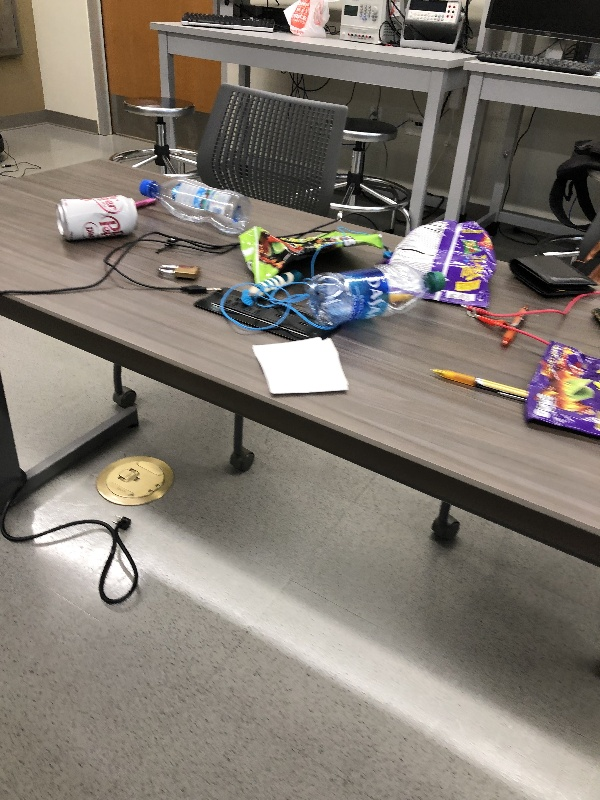bag: (377, 213, 501, 316), (240, 222, 385, 287), (514, 338, 600, 445)
bottle: (307, 255, 452, 328), (136, 175, 253, 236)
can: (51, 191, 140, 248)
